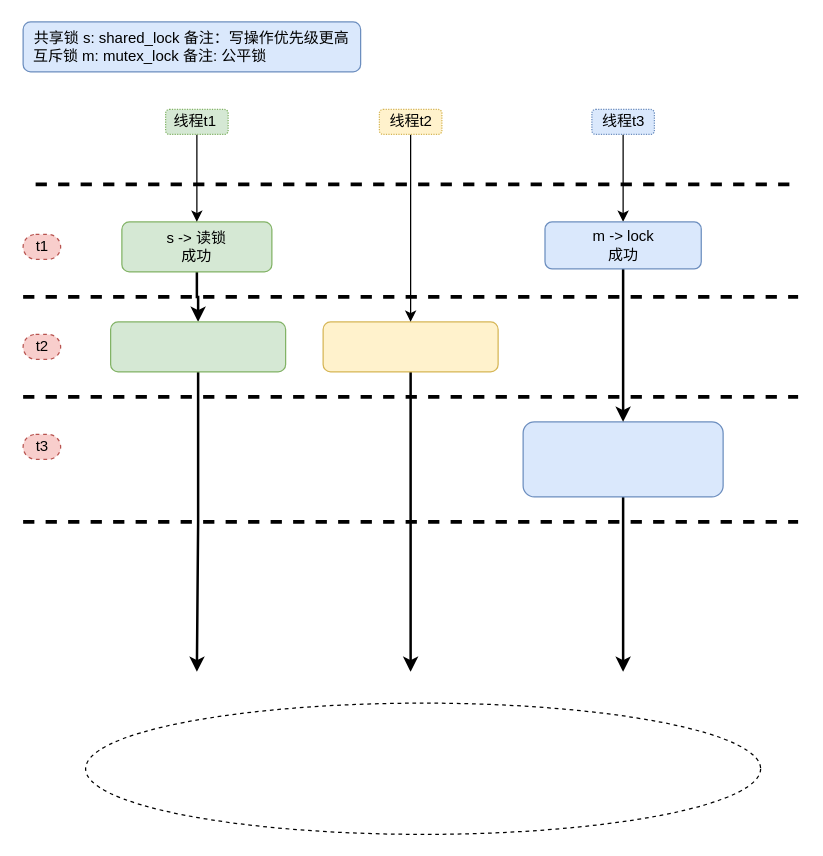
This 823x856 diagram has some shape labels left out. Each missing label, with the centre of its shape:
m -> lock 备注: 线程3在t1时刻获取m，线程1等待: (x=197, y=346)
s -> 写锁 备注：线程1在t1获取s读锁，线程2等待: (x=410, y=346)
s -> 读锁 备注： 写锁优先级更高 线程3，等待: (x=622, y=459)
死锁: (x=422, y=768)
